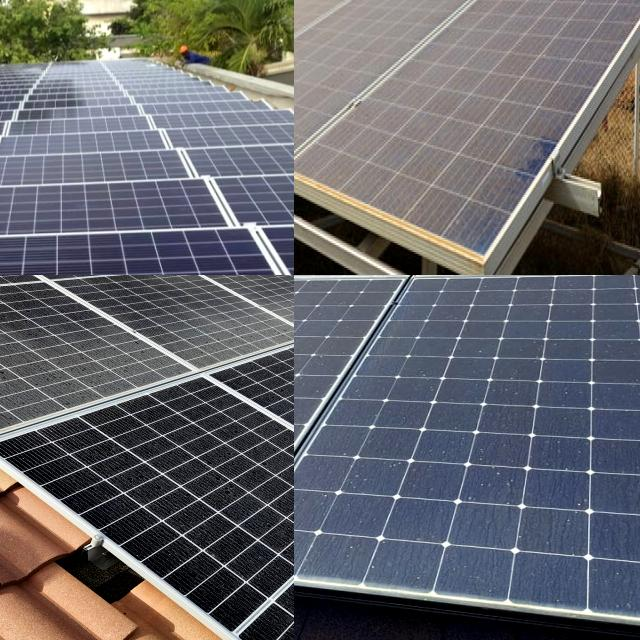crack: (0, 169, 271, 238), (0, 227, 294, 275), (0, 145, 147, 202), (190, 170, 294, 237), (177, 139, 294, 187), (0, 133, 206, 159)
dust: (349, 356, 587, 510), (376, 74, 512, 210), (0, 304, 195, 384), (156, 400, 245, 558), (294, 0, 355, 166), (294, 517, 432, 580), (294, 382, 377, 483), (507, 0, 612, 60), (294, 0, 355, 95), (599, 355, 640, 495), (330, 0, 500, 26), (581, 538, 640, 607), (504, 0, 640, 29), (294, 275, 459, 293), (294, 506, 351, 555), (424, 275, 640, 286), (450, 553, 503, 595), (491, 275, 640, 286), (303, 275, 458, 283), (294, 275, 354, 280)
